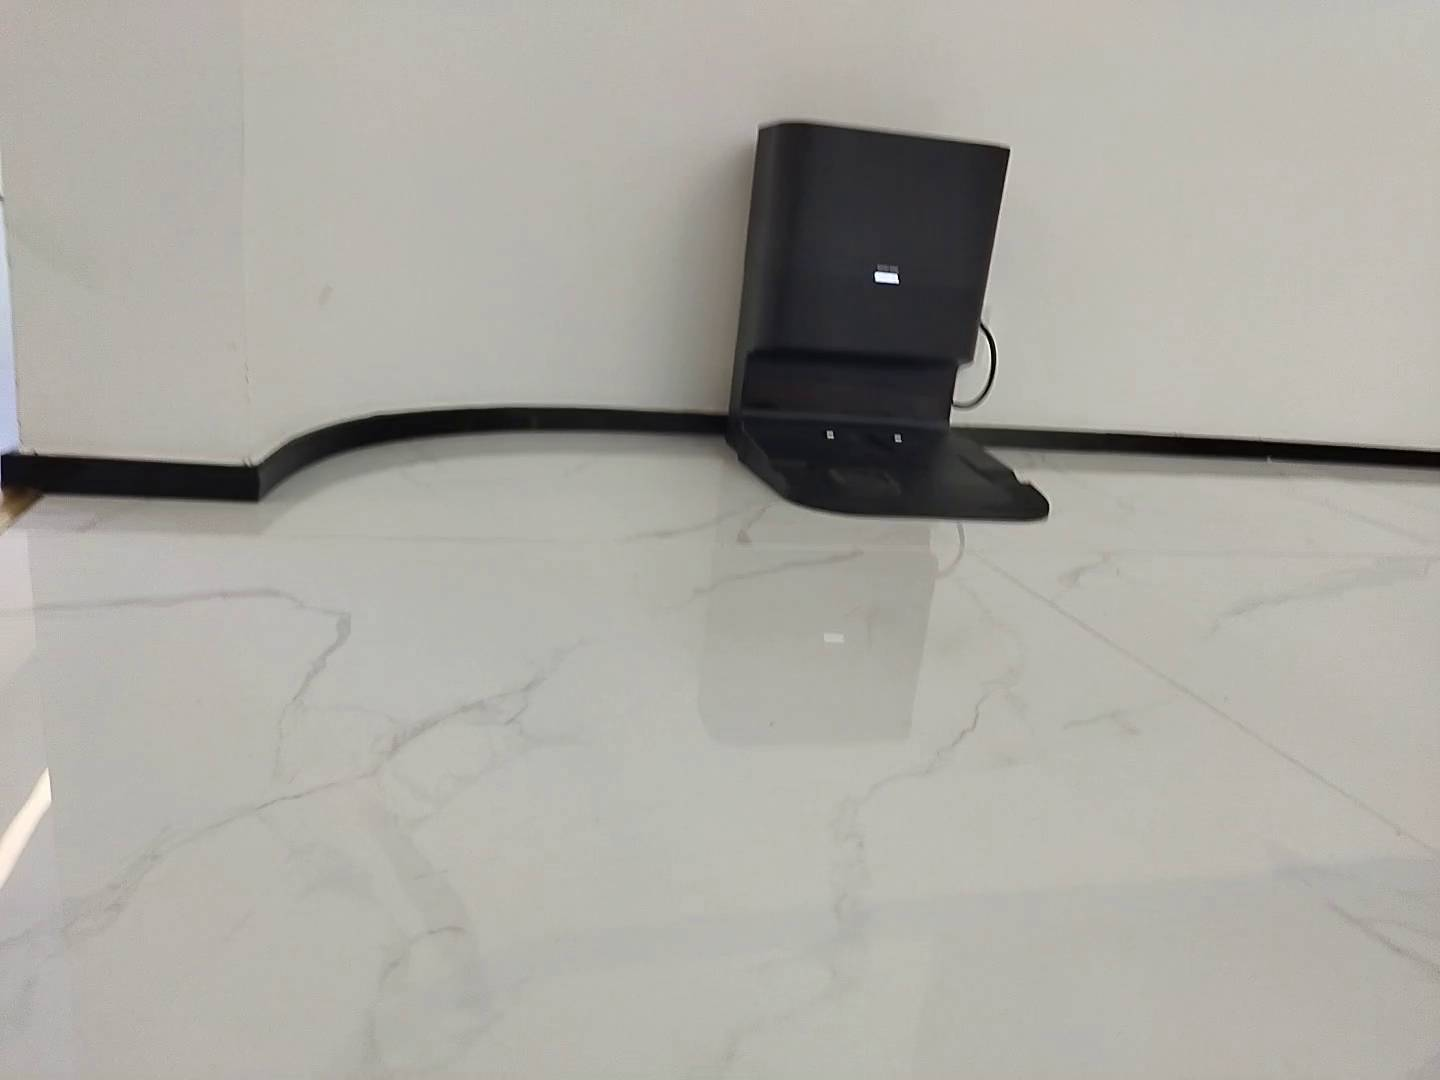dust collecting barrel: (726, 120, 1054, 524)
